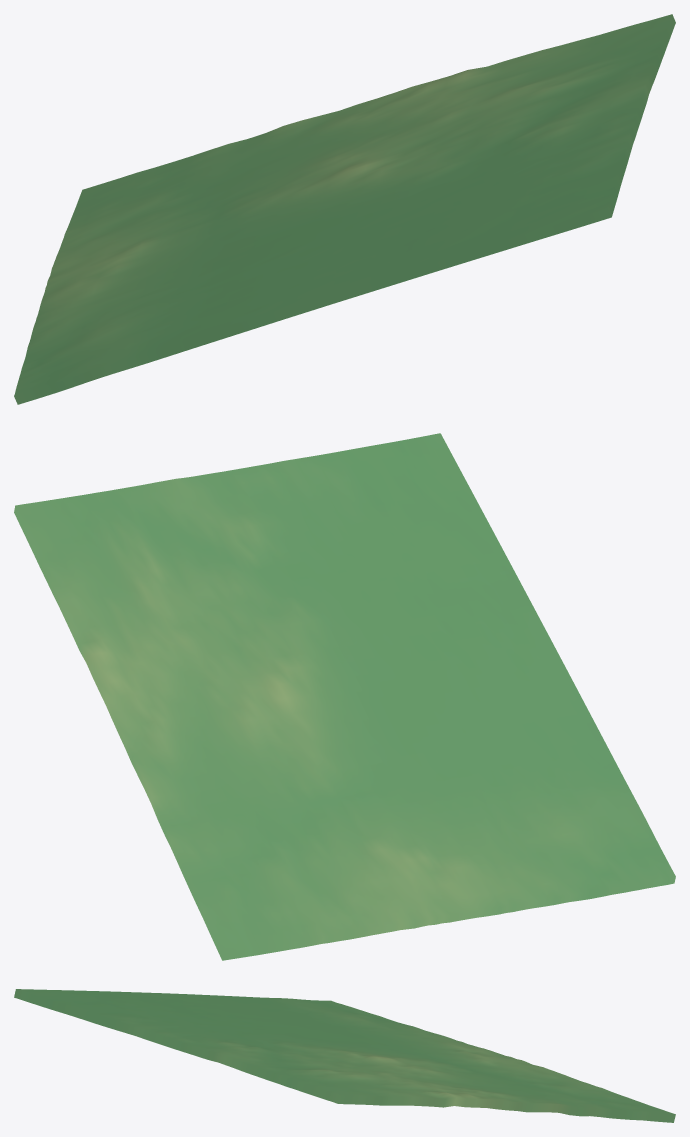
The picture shows the model from 3 angles, top to bottom: view 1: azimuth 30°, elevation 25°; view 2: azimuth 150°, elevation 25°; view 3: azimuth 270°, elevation 25°; orthographic projection. The views are drawn at different scales.
Visible parts, largest first — view 1: geometry_0; view 2: geometry_0; view 3: geometry_0.
Part boxes in pixels (<box>): geometry_0: <box>14,14,675,404</box>; geometry_0: <box>14,433,675,960</box>; geometry_0: <box>14,989,675,1122</box>.
Size of the model in its own units: 187169 by 60830 by 182023.
